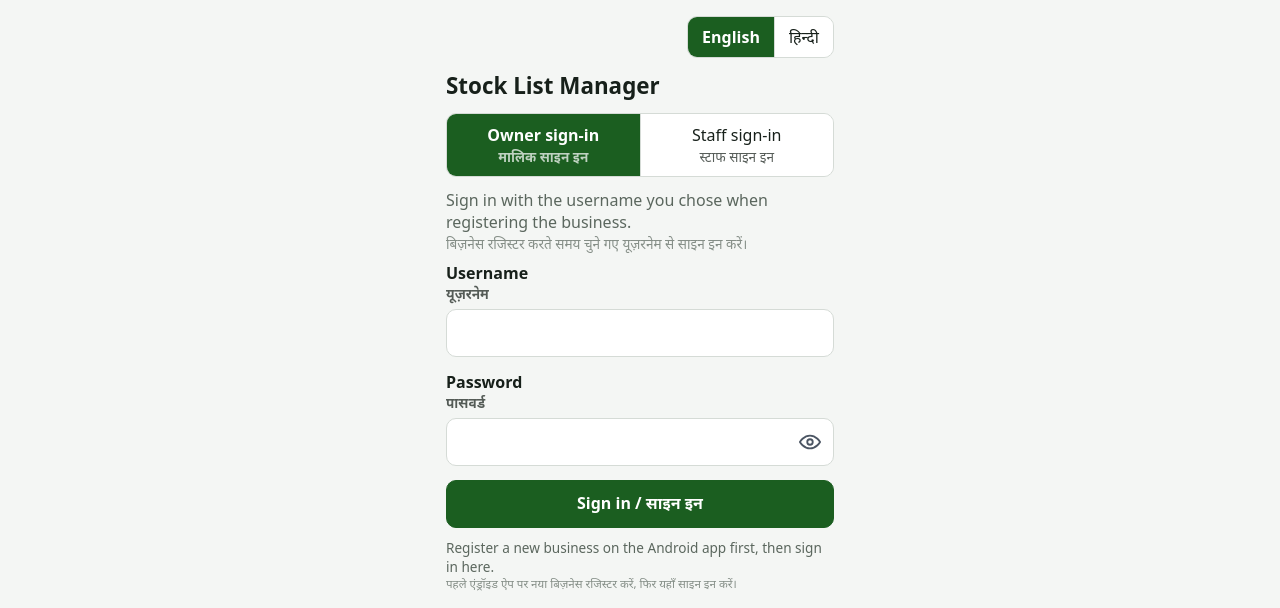
Test case: the app › signs in an owner and shows the home page
Type "asha" into the field labelled "Username यूज़रनेम".
click(640, 333); type("asha")  # box [446,309,834,357]
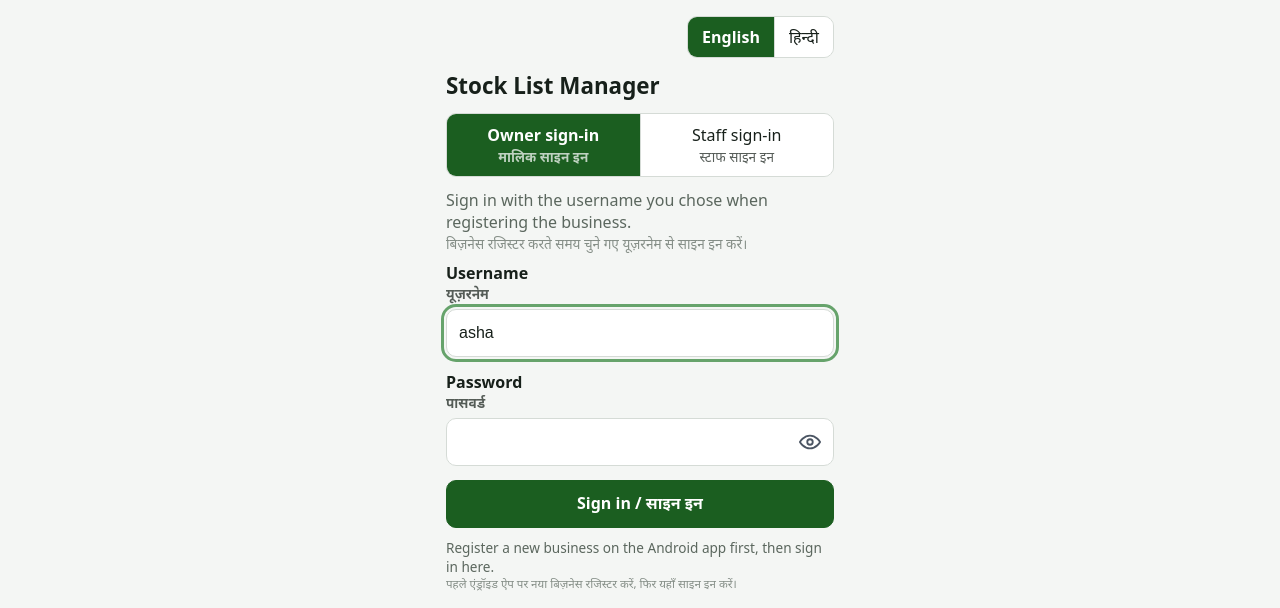
Type "secret-pass" into the password field labelled "Password पासवर्ड".
click(640, 442); type("secret-pass")  # box [446,418,834,466]
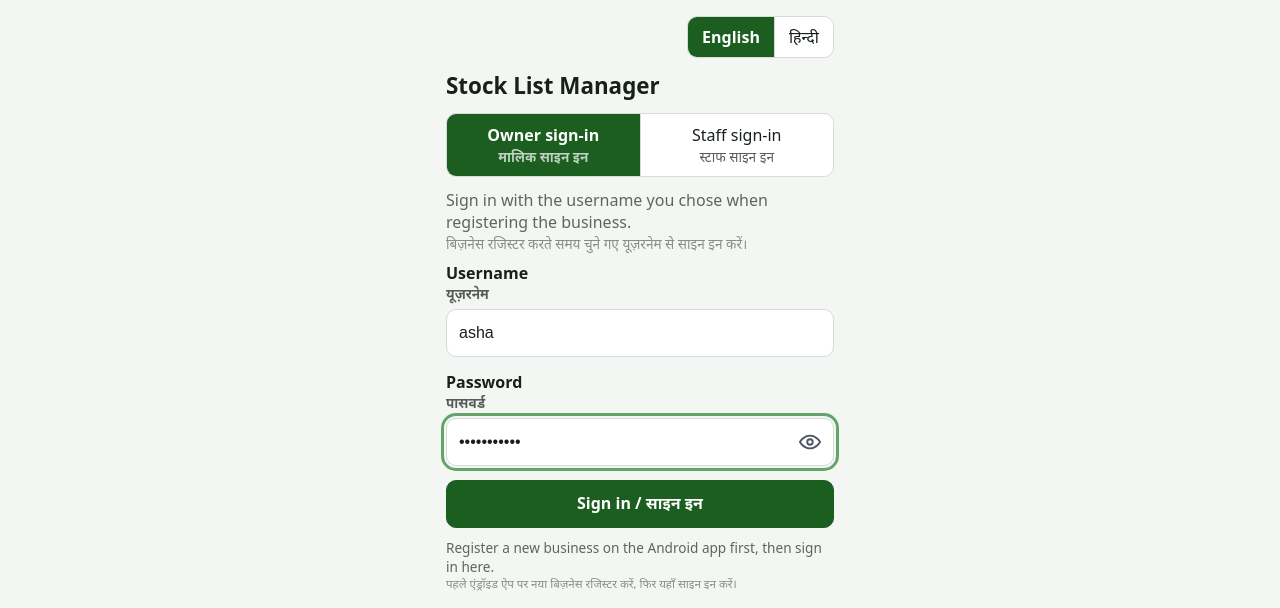
Click the button "Sign in / साइन इन".
click(640, 504)  # box [446,480,834,528]
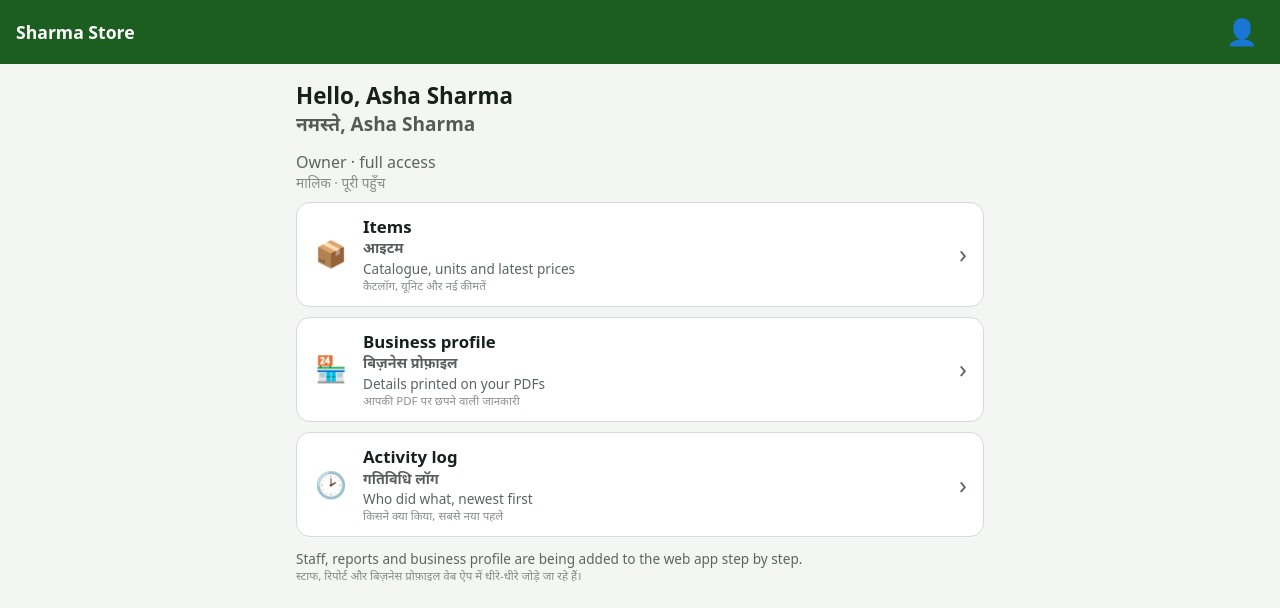
Now the text "Hello, Asha Sharma" is shown, box [296,80,513,111]
Now the text "Sharma Store" is shown, box [16,20,135,44]
